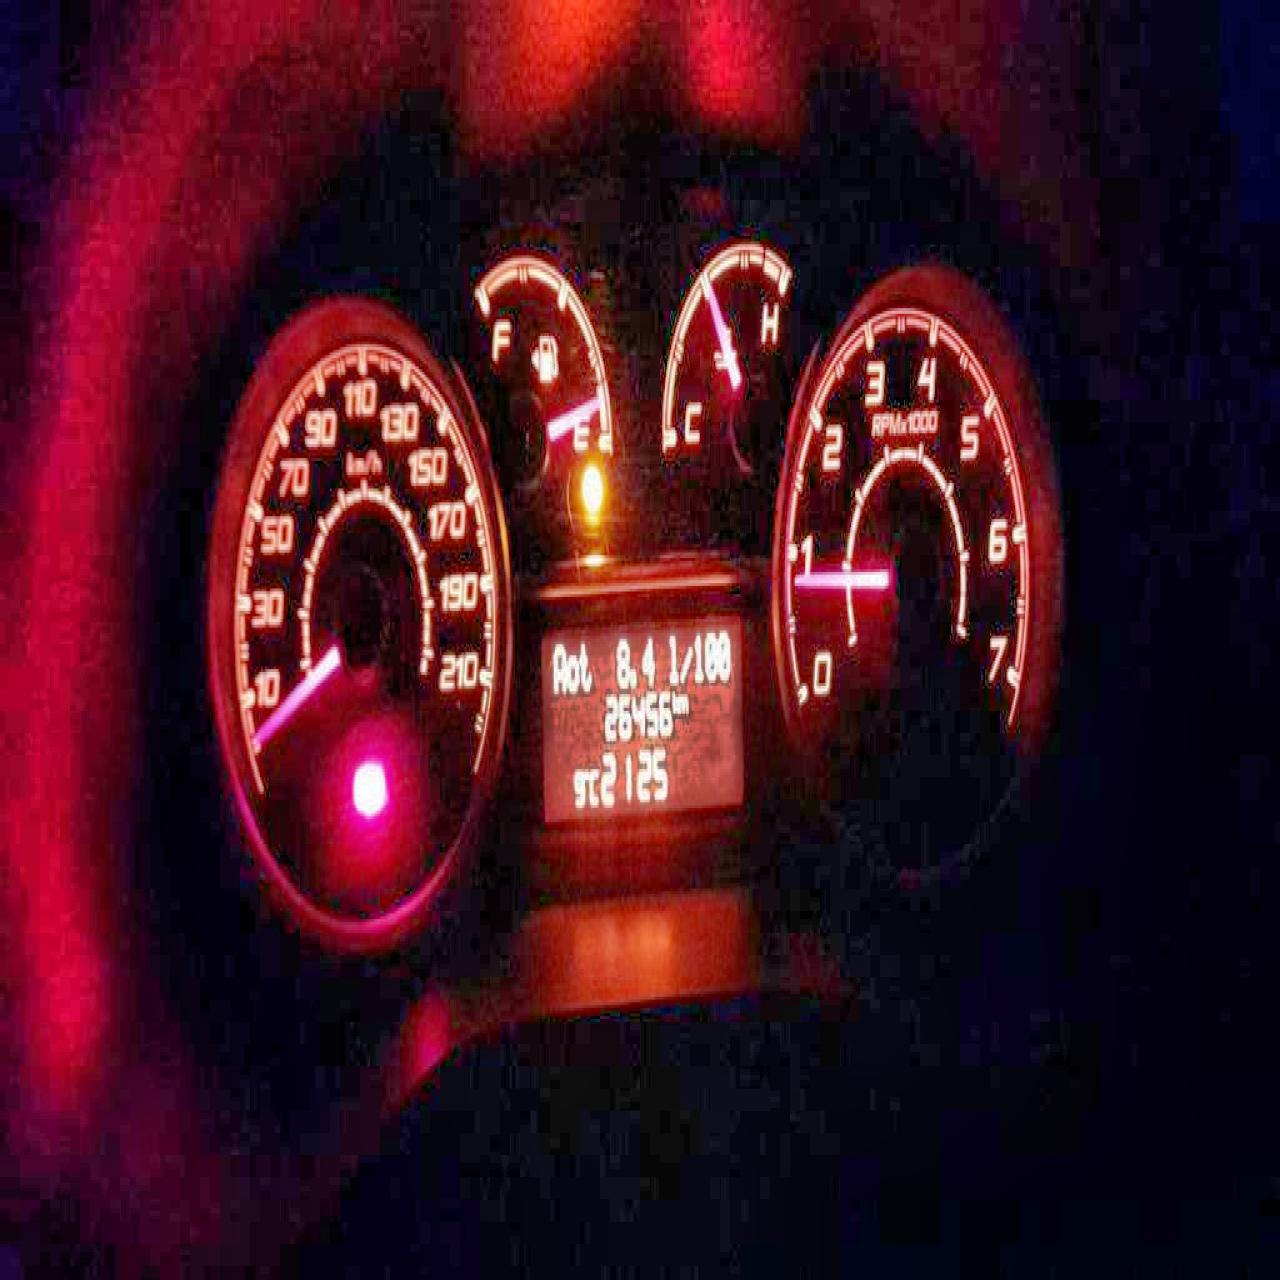-: (627, 667, 636, 688)
0: (702, 627, 717, 681), (716, 627, 730, 681)
1: (693, 631, 702, 681), (624, 749, 632, 803)
2: (599, 750, 617, 809), (635, 747, 651, 802), (602, 692, 617, 742)
4: (640, 631, 656, 686), (629, 692, 645, 736)
5: (651, 744, 668, 799), (644, 688, 658, 735)
6: (658, 686, 673, 736), (617, 692, 632, 738)
8: (614, 633, 629, 686)
9: (571, 767, 585, 805)
X: (578, 635, 592, 692), (551, 639, 565, 692), (679, 641, 693, 682), (667, 629, 678, 683), (566, 649, 579, 692), (587, 764, 599, 809), (678, 692, 688, 714), (672, 688, 678, 714)
odometer: (537, 608, 744, 830)
